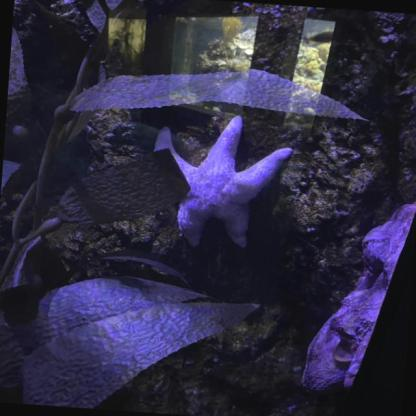starfish: (148, 108, 295, 253)
